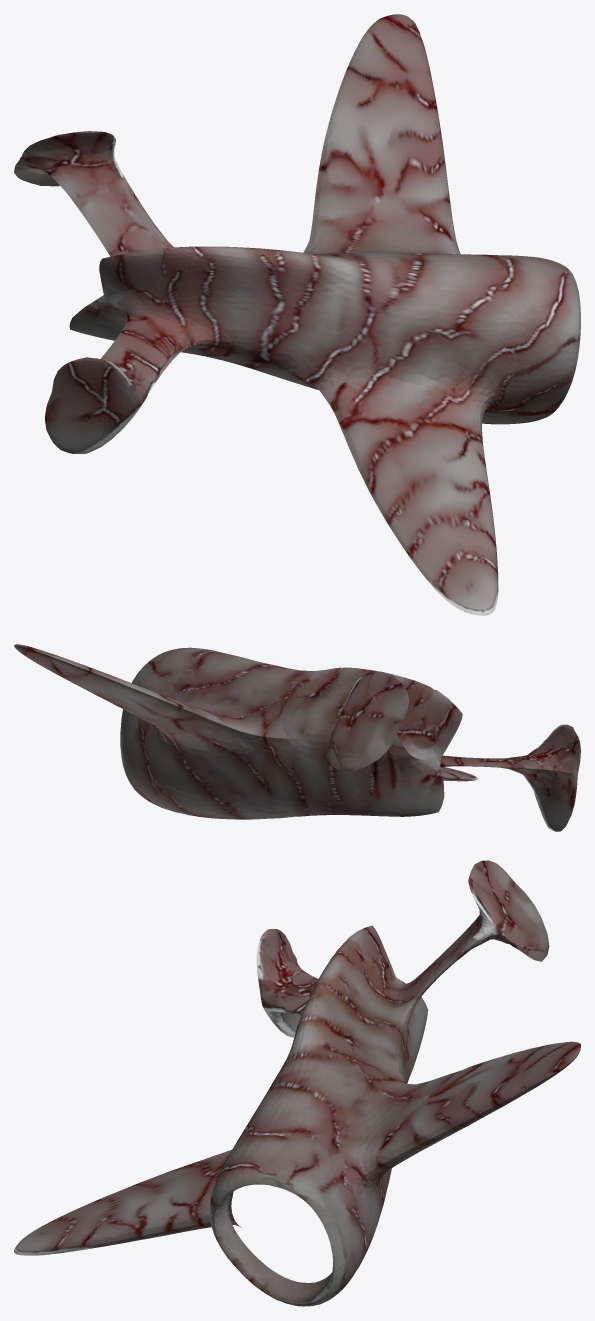
File: airplane_t1.glb
3 renders of one model, top to bottom at view 1: azimuth 30°, elevation 25°; view 2: azimuth 150°, elevation 25°; view 3: azimuth 270°, elevation 25°, orthographic. The views are drawn at different scales.
Parts seen in each view (by area): view 1: world; view 2: world; view 3: world.
Part boxes in pixels (x1,y1,x2,y2): world: [14, 14, 580, 615]; world: [14, 644, 580, 831]; world: [14, 860, 580, 1306].
Bounding box in the file's own units: 0.7961 × 0.4979 × 0.8158.
